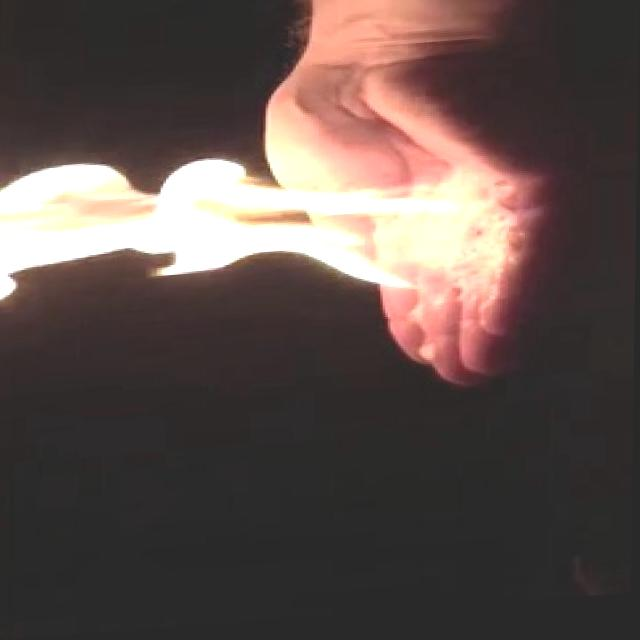Fire: (0, 134, 470, 326)
